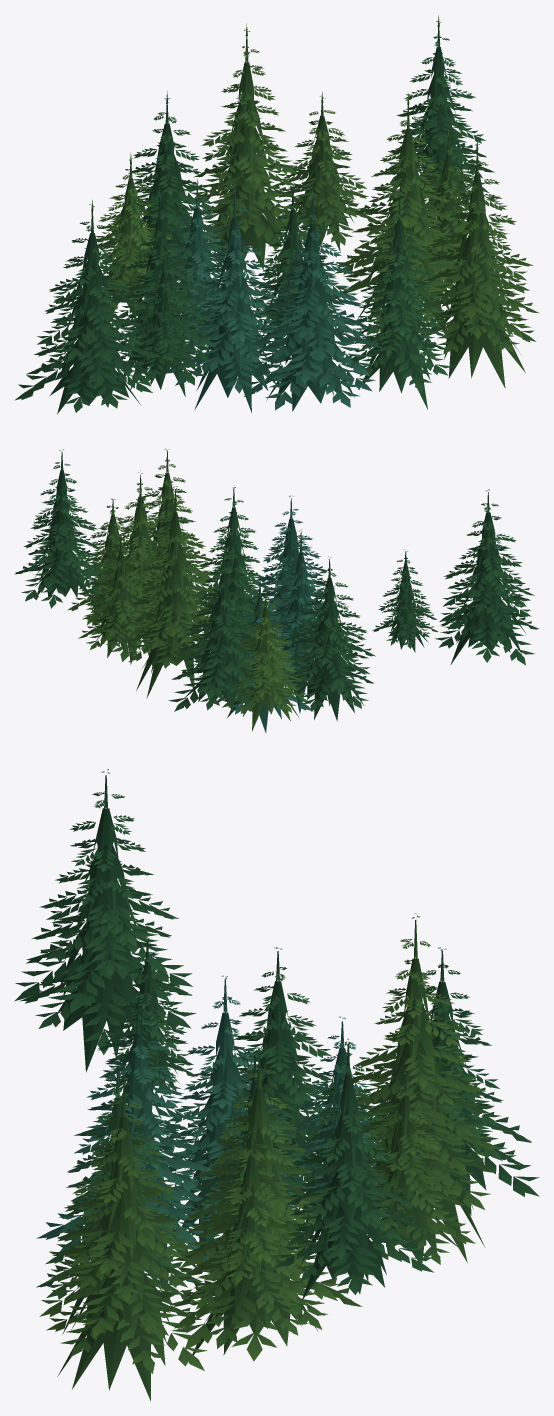
The picture shows the model from 3 angles, top to bottom: view 1: azimuth 30°, elevation 25°; view 2: azimuth 150°, elevation 25°; view 3: azimuth 270°, elevation 25°; orthographic projection. The views are drawn at different scales.
Parts seen in each view (by area): view 1: pn_20; view 2: pn_20; view 3: pn_20.
Part boxes in pixels (x1,y1,x2,y2): pn_20: [14, 15, 539, 414]; pn_20: [14, 448, 538, 732]; pn_20: [14, 769, 539, 1401].
Size of the model in its own units: 40.32 by 20.96 by 24.81.
Materials: 1 (1 with a texture image).
